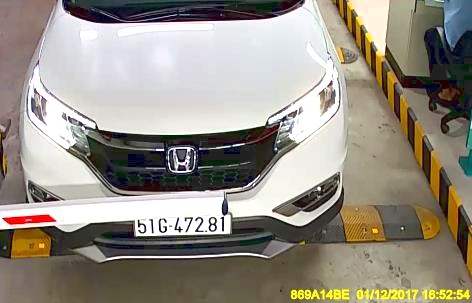plate: (133, 212, 232, 235)
